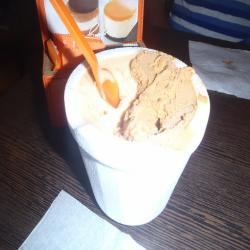icecream: (62, 37, 210, 204)
